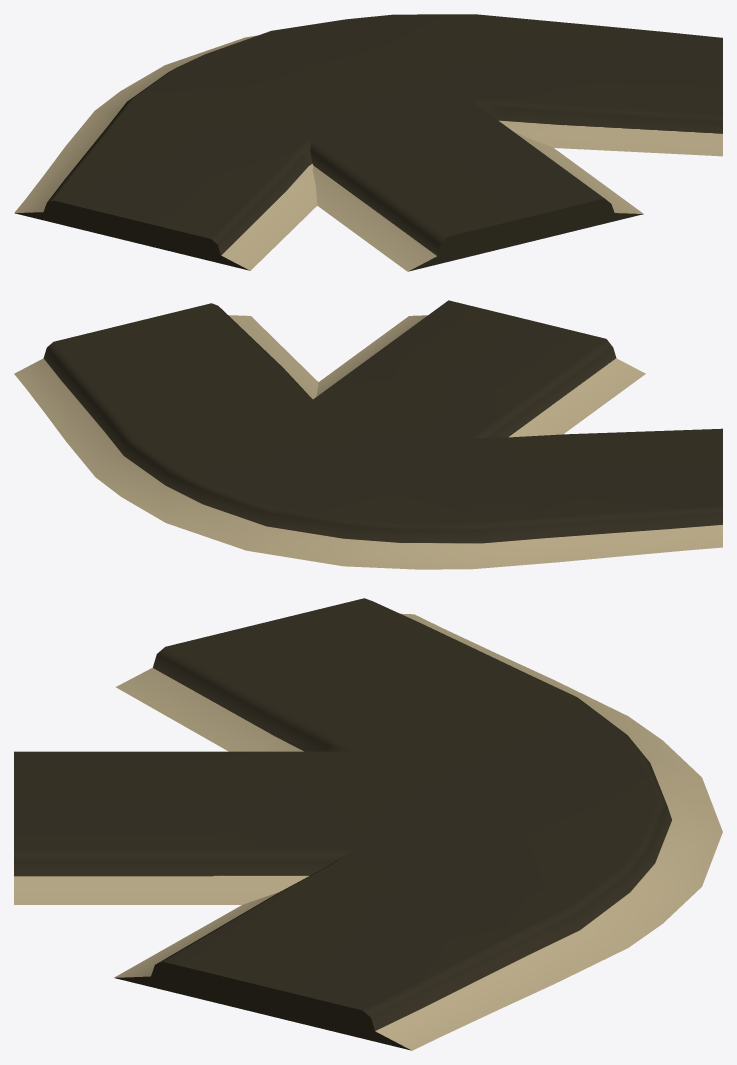
Rendered from Road_DoubleCorner.fbx.
3 renders of one model, top to bottom at view 1: azimuth 30°, elevation 25°; view 2: azimuth 150°, elevation 25°; view 3: azimuth 270°, elevation 25°, orthographic. The views are drawn at different scales.
Visible parts, largest first — view 1: Road_DoubleCorner; view 2: Road_DoubleCorner; view 3: Road_DoubleCorner.
Boxes of the visible parts, left/top/right/bottom form: Road_DoubleCorner: left=14, top=14, right=722, bottom=271; Road_DoubleCorner: left=14, top=300, right=722, bottom=569; Road_DoubleCorner: left=14, top=598, right=722, bottom=1050.
Size of the model in its own units: 0.8983 by 0.0312 by 0.6166.
